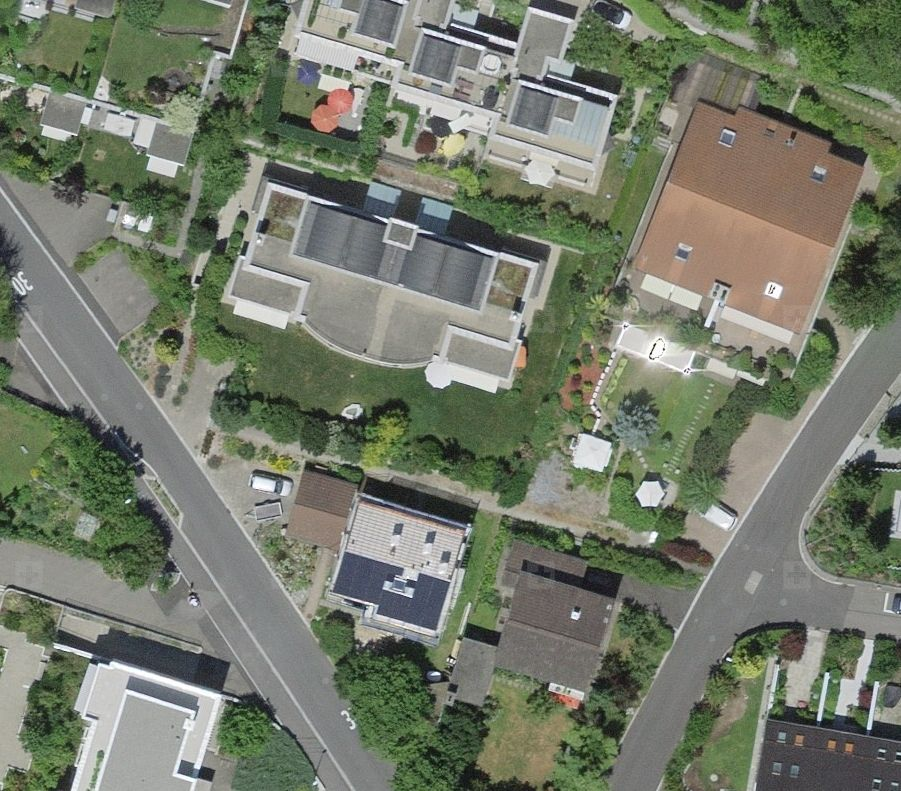solar: (329, 551, 451, 635)
